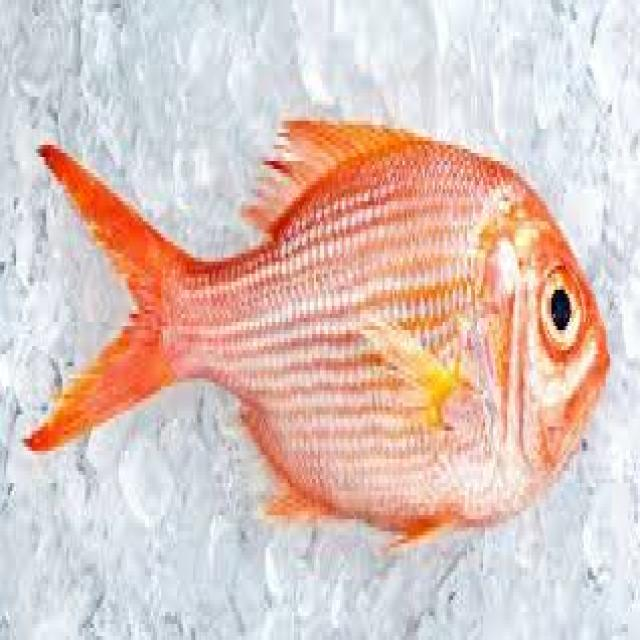northern-red-snapper: (20, 58, 613, 552)
